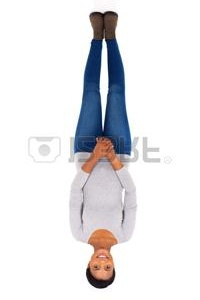arm: (120, 169, 138, 236), (72, 169, 88, 235)
chest: (89, 173, 121, 230)
face: (86, 251, 116, 289)
foot: (89, 12, 105, 40), (106, 12, 120, 40)
hand: (96, 135, 115, 160)
leg: (74, 39, 105, 150), (105, 39, 130, 153)
neck: (92, 231, 111, 249)
